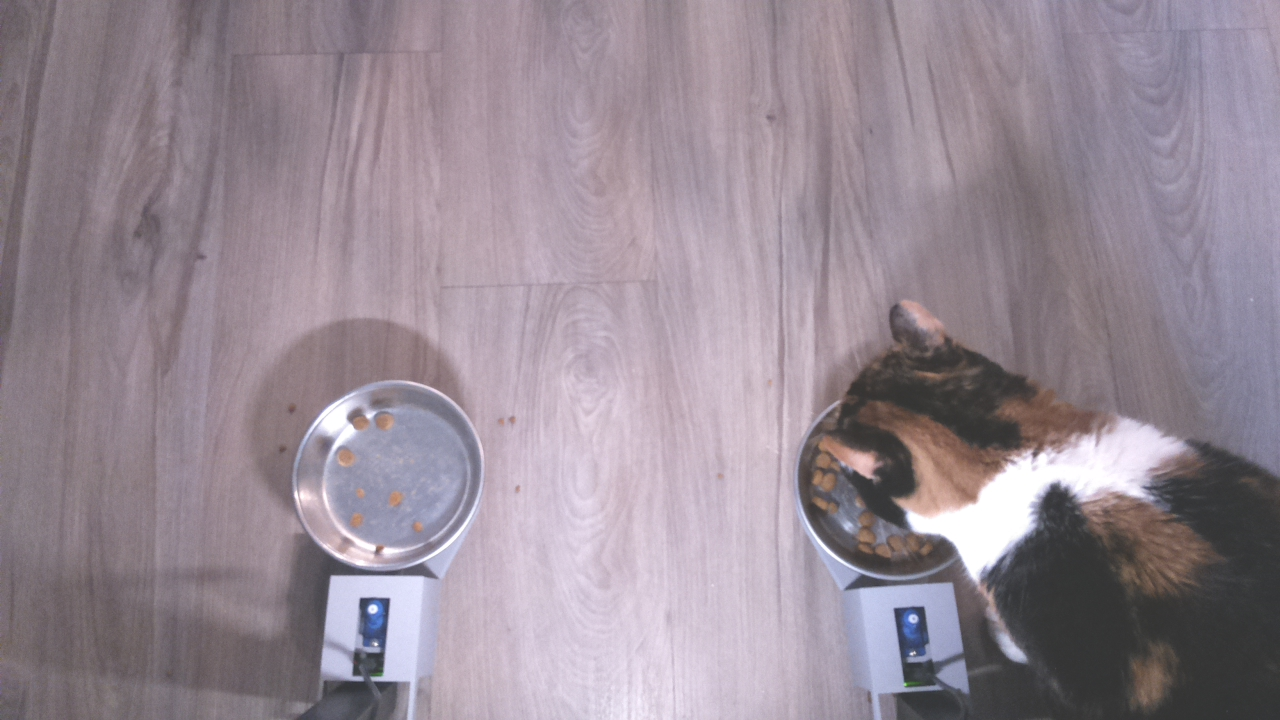bella_eating: (802, 285, 1056, 579)
open_bowl: (286, 373, 491, 578)
